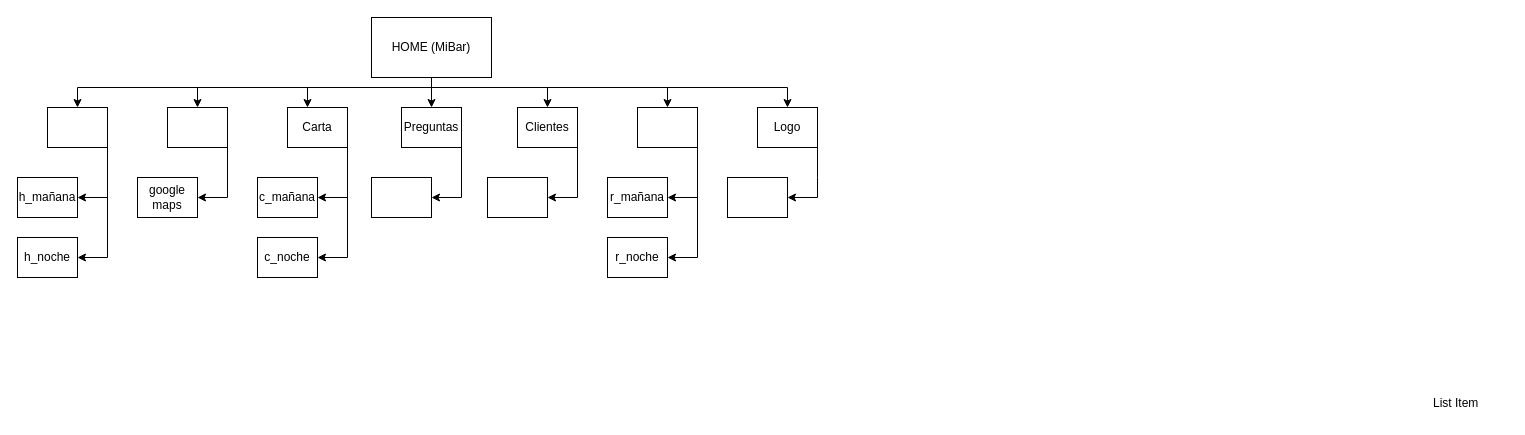
Some shapes in this 1525 by 435 pixel diagram are drawn without their labels. The centre of each missing label's shape, as x and y in pixels:
"descarga" belongs at point 757,197.
"fotos" belongs at point 517,197.
"Horarios" belongs at point 77,127.
"p.doc" belongs at point 401,197.
"Reservas" belongs at point 667,127.
"Ubicacion" belongs at point 197,127.
